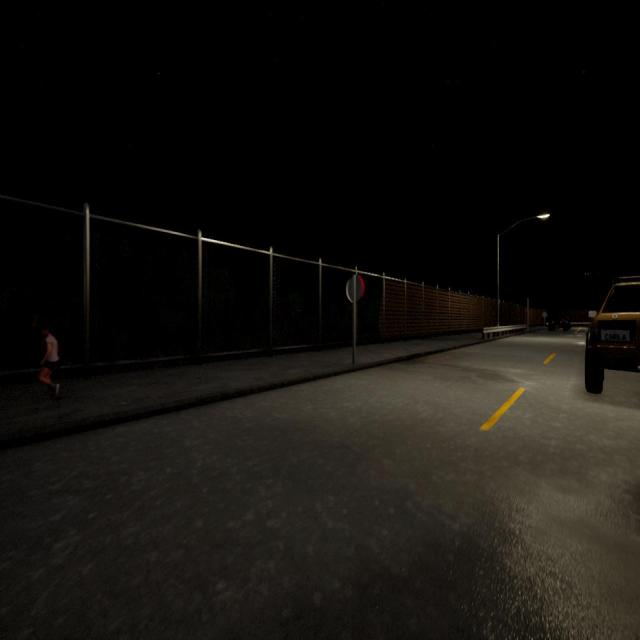Pedestrian: (38, 325, 62, 398)
Traffic_Signs: (346, 274, 366, 304), (542, 312, 547, 317)
Vehicle: (584, 276, 640, 393), (548, 317, 571, 332)
